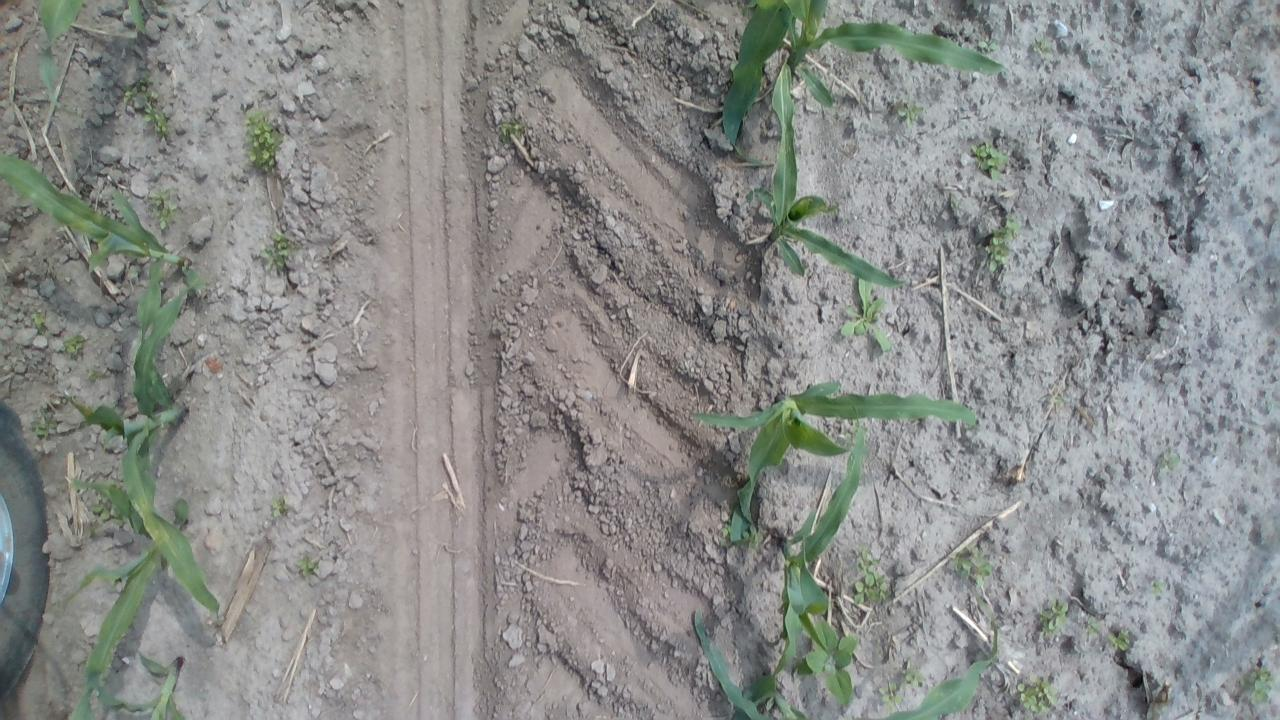Maize: (23, 268, 230, 625), (682, 380, 997, 552), (0, 144, 210, 390), (717, 0, 1010, 168), (684, 610, 1032, 720), (748, 58, 908, 297), (61, 475, 200, 720), (759, 422, 872, 702), (33, 0, 162, 114), (82, 647, 196, 720)
Weeds: (799, 616, 866, 707), (842, 269, 897, 359), (974, 208, 1030, 277), (848, 545, 902, 610), (124, 78, 174, 146), (242, 109, 293, 173), (1236, 658, 1278, 713), (1012, 675, 1064, 719), (878, 668, 933, 708), (950, 548, 1001, 588), (715, 520, 765, 556), (972, 138, 1011, 182), (256, 231, 294, 275), (1035, 594, 1071, 638), (147, 190, 180, 234), (492, 112, 528, 148), (88, 501, 129, 532), (33, 405, 66, 443), (1042, 389, 1079, 415), (58, 332, 92, 360), (1107, 628, 1137, 657), (1149, 575, 1175, 603), (895, 102, 923, 127), (292, 556, 323, 578), (1028, 37, 1055, 61), (1156, 449, 1184, 472), (976, 38, 1006, 59), (267, 494, 292, 519), (1080, 617, 1102, 645), (30, 310, 50, 339)
